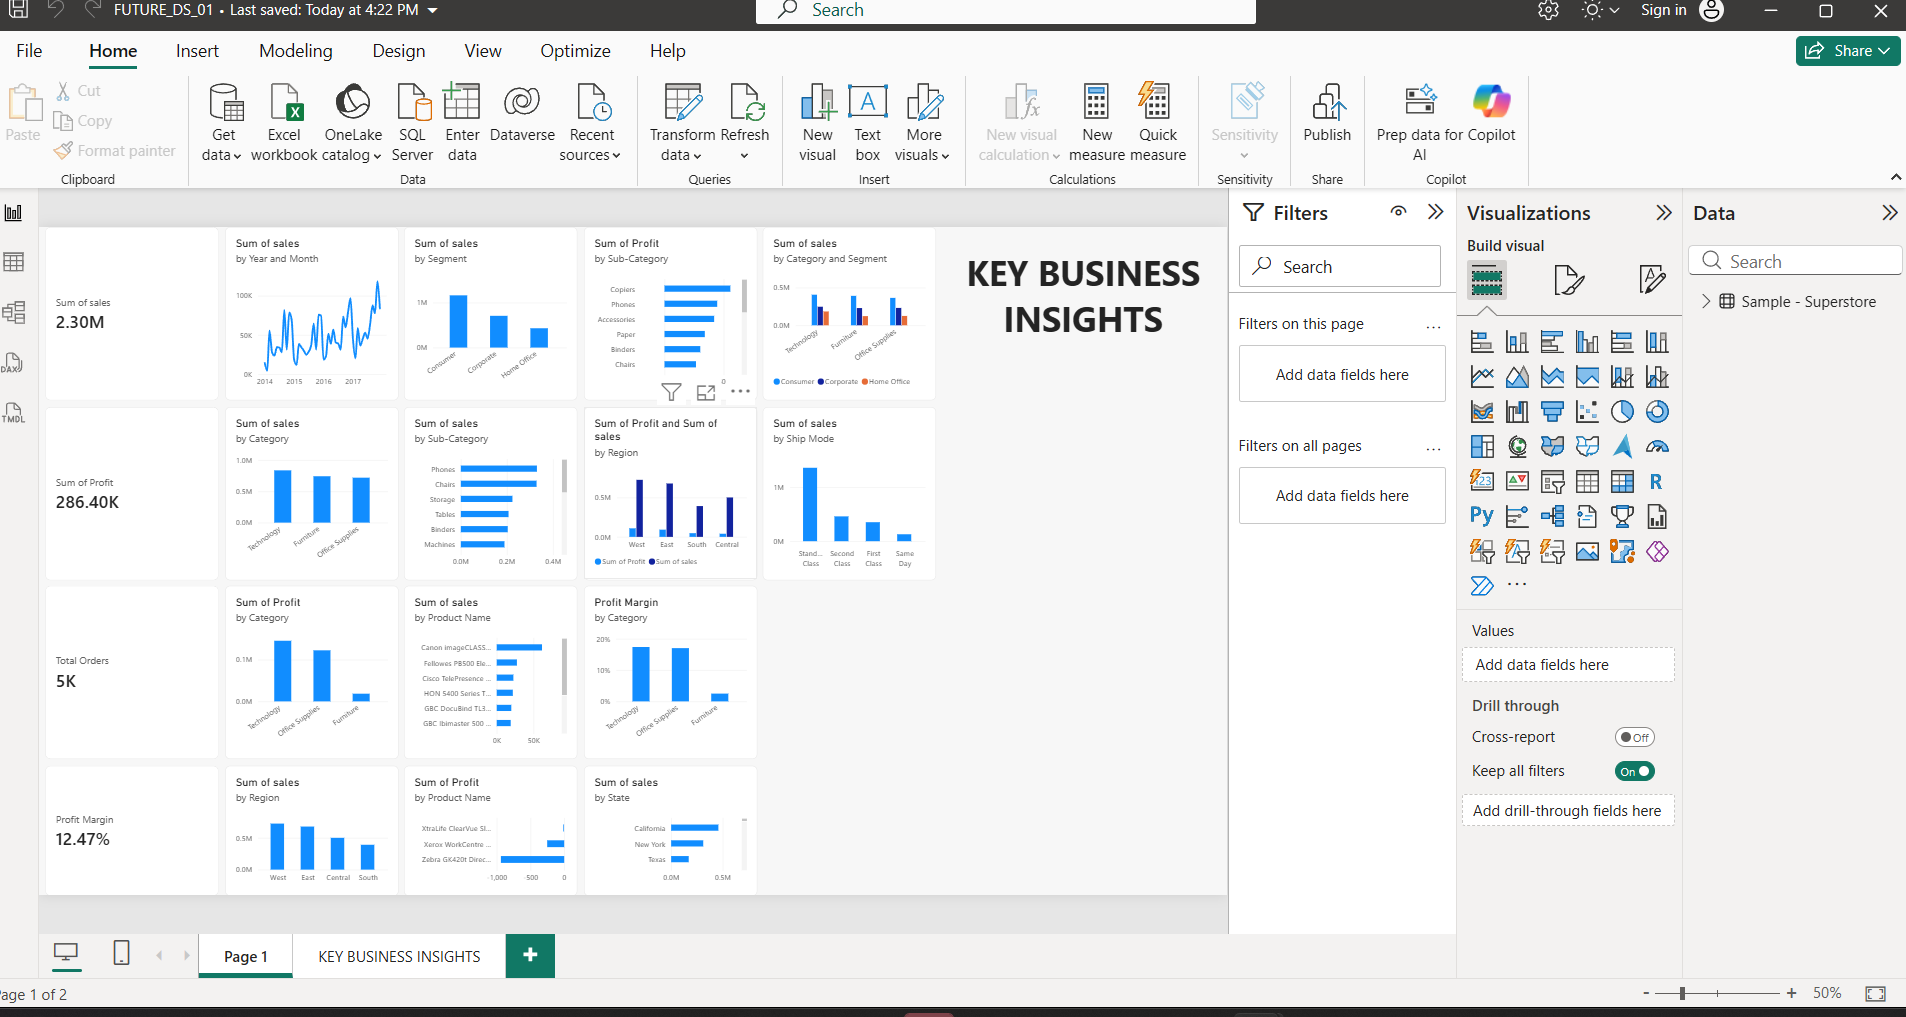

Layout of this report page (visuals, bound fields, positions):
{"tool":"powerbi","page":{"name":"Page 1","canvas":[1920,1080],"ordinal":0},"visuals":[{"type":"cardVisual","fields":{"Data":["Sum(Sample - Superstore.Sales)"]},"box":[10,0,280,280],"z":0},{"type":"cardVisual","fields":{"Data":["Sum(Sample - Superstore.Profit)"]},"box":[10,290,280,280],"z":1000},{"type":"cardVisual","fields":{"Data":["Sample - Superstore.Total Orders"]},"box":[10,580,280,280],"z":1001},{"type":"cardVisual","fields":{"Data":["Sample - Superstore.Profit Margin"]},"box":[10,870,280,210],"z":1002},{"type":"lineChart","fields":{"Category":["Sample - Superstore.Order Date.Variation.Date Hierarchy.Year","Sample - Superstore.Order Date.Variation.Date Hierarchy.Month"],"Y":["Sum(Sample - Superstore.sales)"]},"box":[300,0,280,280],"z":1003},{"type":"clusteredColumnChart","fields":{"Category":["Sample - Superstore.Category"],"Y":["Sum(Sample - Superstore.sales)"]},"box":[300,290,280,280],"z":1004},{"type":"clusteredColumnChart","fields":{"Category":["Sample - Superstore.Category"],"Y":["Sum(Sample - Superstore.Profit)"]},"box":[300,580,280,280],"z":1005},{"type":"clusteredColumnChart","fields":{"Category":["Sample - Superstore.Region"],"Y":["Sum(Sample - Superstore.sales)"]},"box":[300,870,280,210],"z":1006},{"type":"clusteredColumnChart","fields":{"Category":["Sample - Superstore.Segment"],"Y":["Sum(Sample - Superstore.sales)"]},"box":[590,0,280,280],"z":1007},{"type":"clusteredBarChart","fields":{"Category":["Sample - Superstore.Sub-Category"],"Y":["Sum(Sample - Superstore.sales)"]},"box":[590,290,280,280],"z":1008},{"type":"clusteredBarChart","fields":{"Category":["Sample - Superstore.Product Name"],"Y":["Sum(Sample - Superstore.sales)"]},"box":[590,580,280,280],"z":1009},{"type":"clusteredBarChart","fields":{"Category":["Sample - Superstore.Product Name"],"Y":["Sum(Sample - Superstore.Profit)"]},"box":[590,870,280,210],"z":1010},{"type":"clusteredBarChart","fields":{"Category":["Sample - Superstore.Sub-Category"],"Y":["Sum(Sample - Superstore.Profit)"]},"box":[880,0,280,280],"z":1011},{"type":"clusteredColumnChart","fields":{"Category":["Sample - Superstore.Region"],"Y":["Sum(Sample - Superstore.Profit)","Sum(Sample - Superstore.sales)"]},"box":[880,290,280,280],"z":1012},{"type":"clusteredColumnChart","fields":{"Category":["Sample - Superstore.Category"],"Y":["Sample - Superstore.Profit Margin"]},"box":[880,580,280,280],"z":1013},{"type":"clusteredBarChart","fields":{"Category":["Sample - Superstore.State"],"Y":["Sum(Sample - Superstore.sales)"]},"box":[880,870,280,210],"z":1014},{"type":"clusteredColumnChart","fields":{"Category":["Sample - Superstore.Category"],"Series":["Sample - Superstore.Segment"],"Y":["Sum(Sample - Superstore.sales)"]},"box":[1170,0,280,280],"z":1015},{"type":"clusteredColumnChart","fields":{"Category":["Sample - Superstore.Ship Mode"],"Y":["Sum(Sample - Superstore.sales)"]},"box":[1170,290,280,280],"z":1016},{"type":"textbox","box":[1170,580,280,280],"z":1017},{"type":"textbox","box":[1170,870,280,210],"z":1018},{"type":"textbox","box":[1475.6,33.5,421.3,287.2],"z":1019}]}

Visuals, with their boxes on the page's 1920x1080 design canvas (x1, y1, x2, y2). These are canvas units, not pixel positions in the 1906x1017 screenshot, which may show the page scaled, cropped or inside an application window:
cardVisual - Sum(Sample - Superstore.Sales): <box>10,0,290,280</box>
cardVisual - Sum(Sample - Superstore.Profit): <box>10,290,290,570</box>
cardVisual - Sample - Superstore.Total Orders: <box>10,580,290,860</box>
cardVisual - Sample - Superstore.Profit Margin: <box>10,870,290,1080</box>
lineChart - Sample - Superstore.Order Date.Variation.Date Hierarchy.Year x Sample - Superstore.Order Date.Variation.Date Hierarchy.Month: <box>300,0,580,280</box>
clusteredColumnChart - Sample - Superstore.Category x Sum(Sample - Superstore.sales): <box>300,290,580,570</box>
clusteredColumnChart - Sample - Superstore.Category x Sum(Sample - Superstore.Profit): <box>300,580,580,860</box>
clusteredColumnChart - Sample - Superstore.Region x Sum(Sample - Superstore.sales): <box>300,870,580,1080</box>
clusteredColumnChart - Sample - Superstore.Segment x Sum(Sample - Superstore.sales): <box>590,0,870,280</box>
clusteredBarChart - Sample - Superstore.Sub-Category x Sum(Sample - Superstore.sales): <box>590,290,870,570</box>
clusteredBarChart - Sample - Superstore.Product Name x Sum(Sample - Superstore.sales): <box>590,580,870,860</box>
clusteredBarChart - Sample - Superstore.Product Name x Sum(Sample - Superstore.Profit): <box>590,870,870,1080</box>
clusteredBarChart - Sample - Superstore.Sub-Category x Sum(Sample - Superstore.Profit): <box>880,0,1160,280</box>
clusteredColumnChart - Sample - Superstore.Region x Sum(Sample - Superstore.Profit): <box>880,290,1160,570</box>
clusteredColumnChart - Sample - Superstore.Category x Sample - Superstore.Profit Margin: <box>880,580,1160,860</box>
clusteredBarChart - Sample - Superstore.State x Sum(Sample - Superstore.sales): <box>880,870,1160,1080</box>
clusteredColumnChart - Sample - Superstore.Category x Sample - Superstore.Segment: <box>1170,0,1450,280</box>
clusteredColumnChart - Sample - Superstore.Ship Mode x Sum(Sample - Superstore.sales): <box>1170,290,1450,570</box>
textbox: <box>1170,580,1450,860</box>
textbox: <box>1170,870,1450,1080</box>
textbox: <box>1476,34,1897,321</box>
